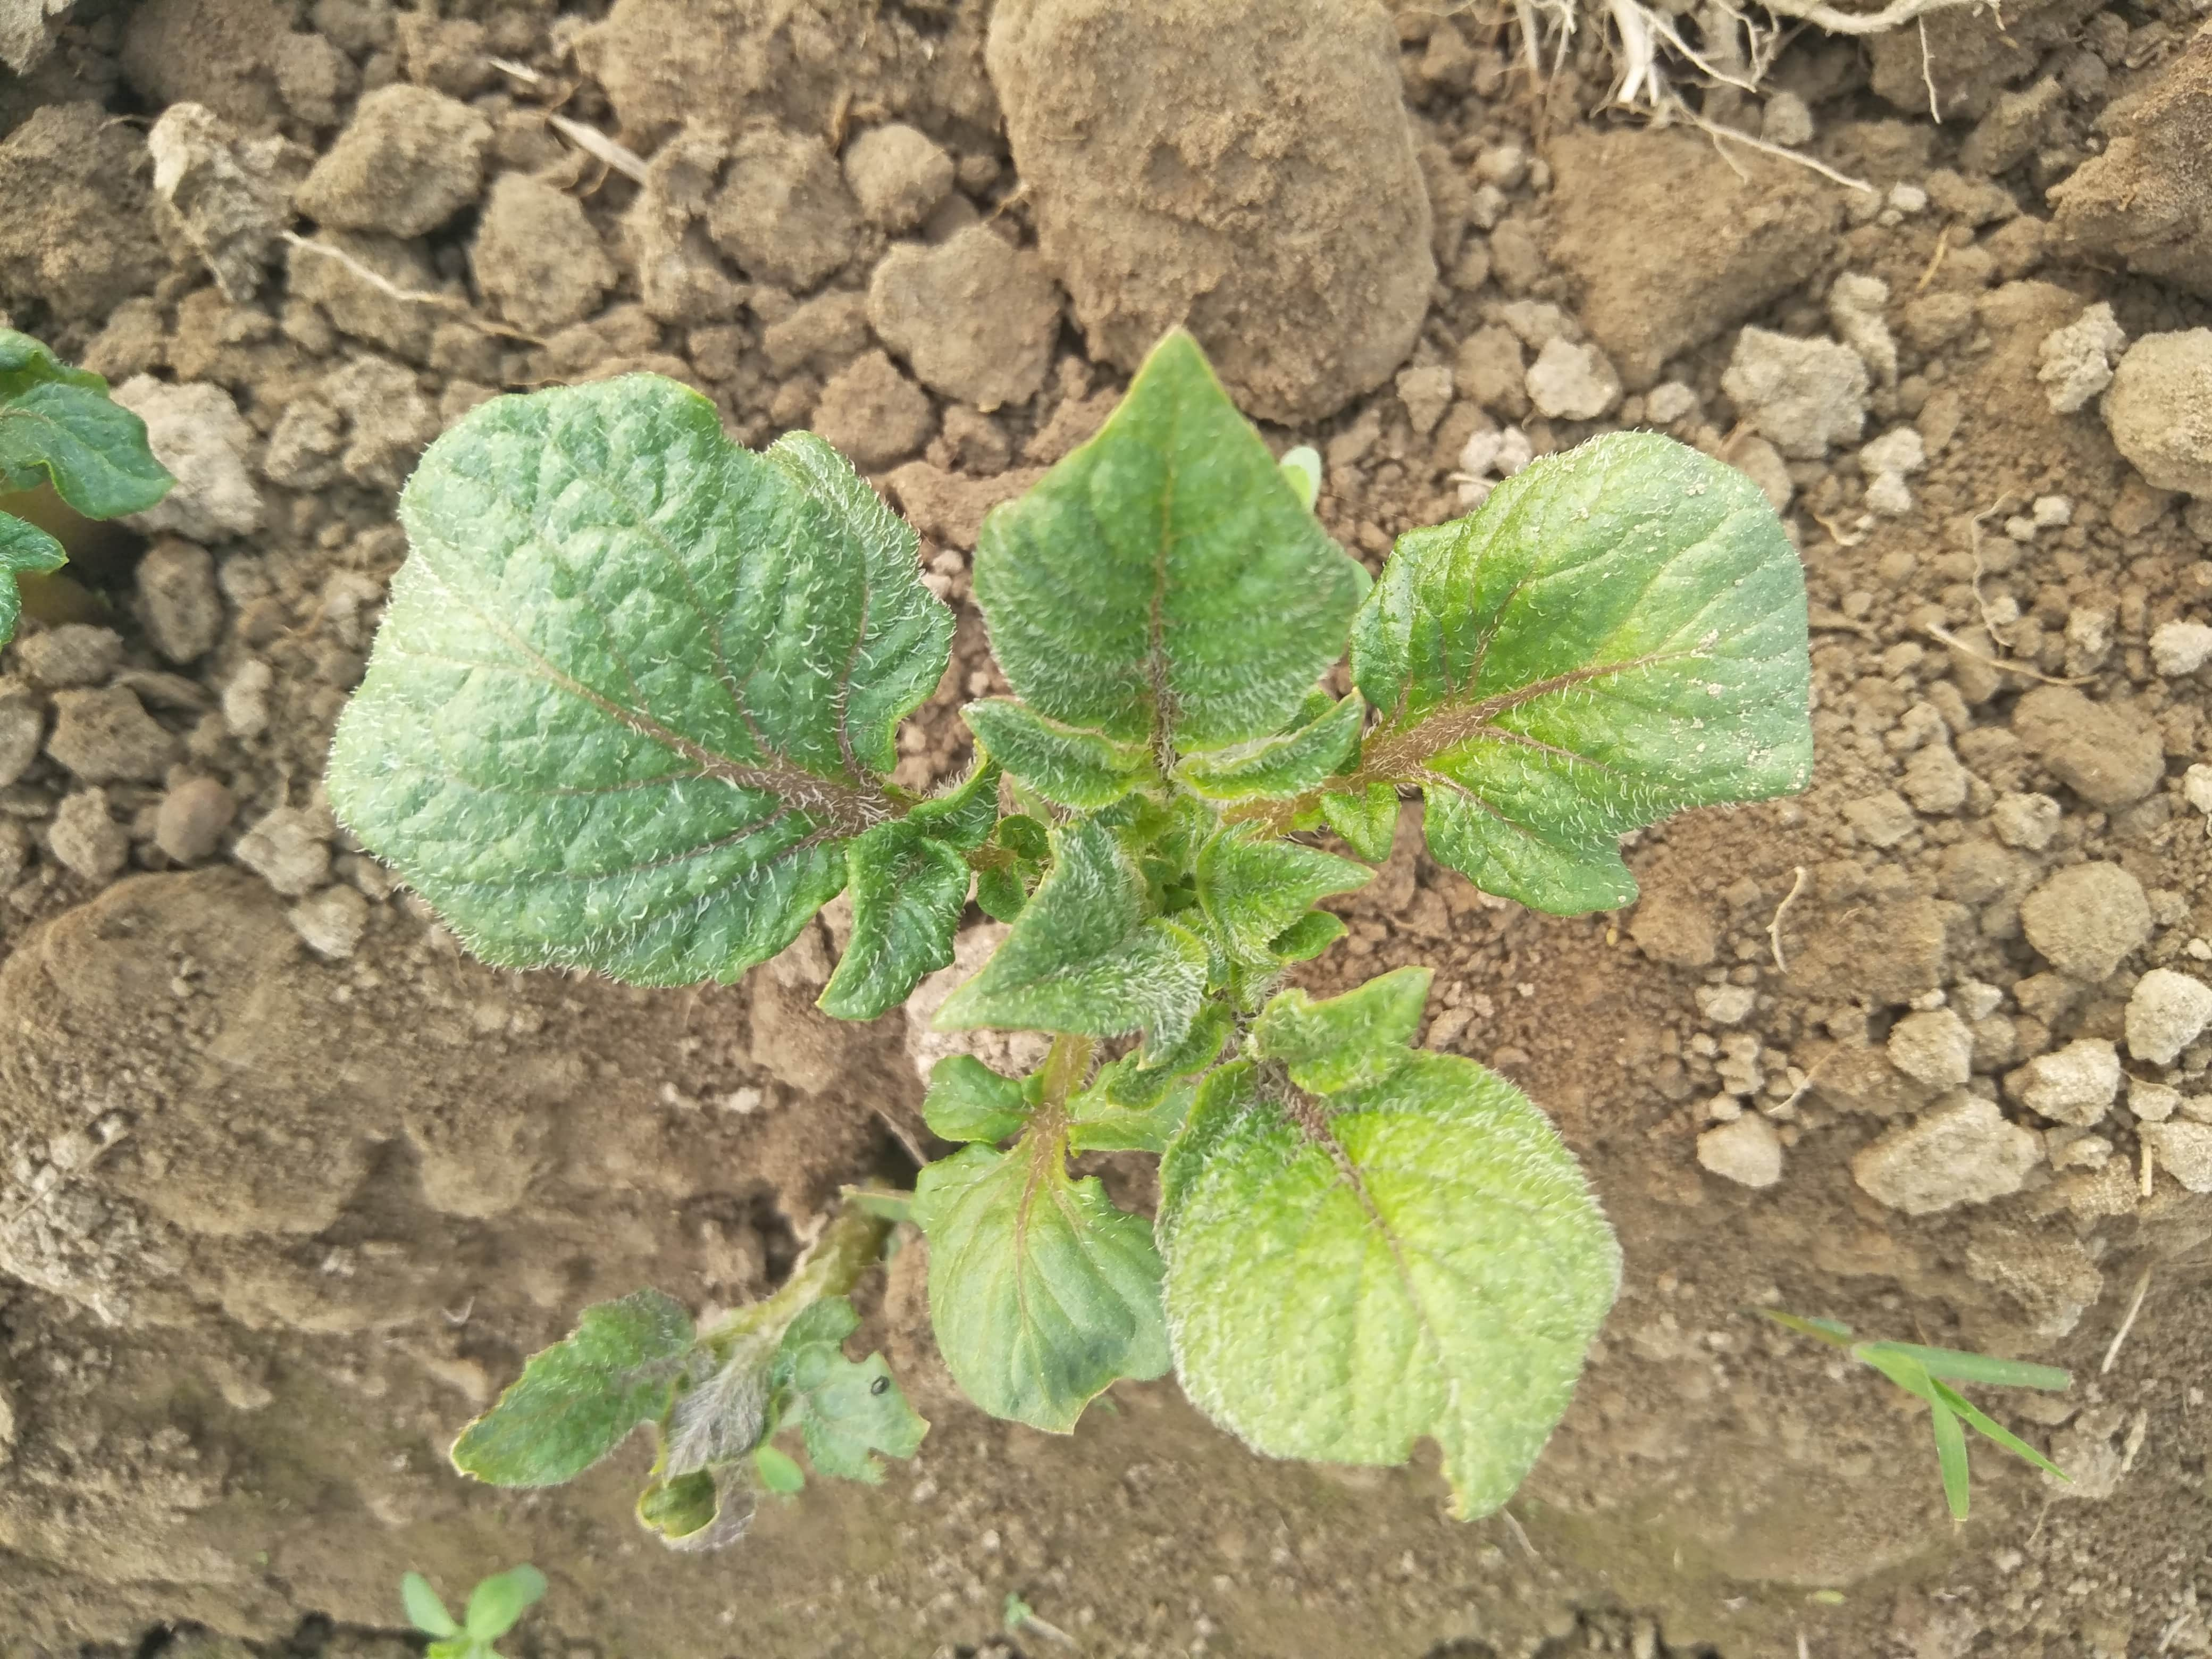daun: (383, 390, 914, 974), (1158, 1040, 1604, 1493), (1374, 439, 1803, 903), (981, 335, 1350, 786), (932, 1131, 1155, 1422), (446, 1309, 723, 1480), (988, 877, 1209, 1039), (838, 789, 996, 1014), (1205, 843, 1364, 948), (1258, 981, 1416, 1073), (934, 1051, 1040, 1140)
